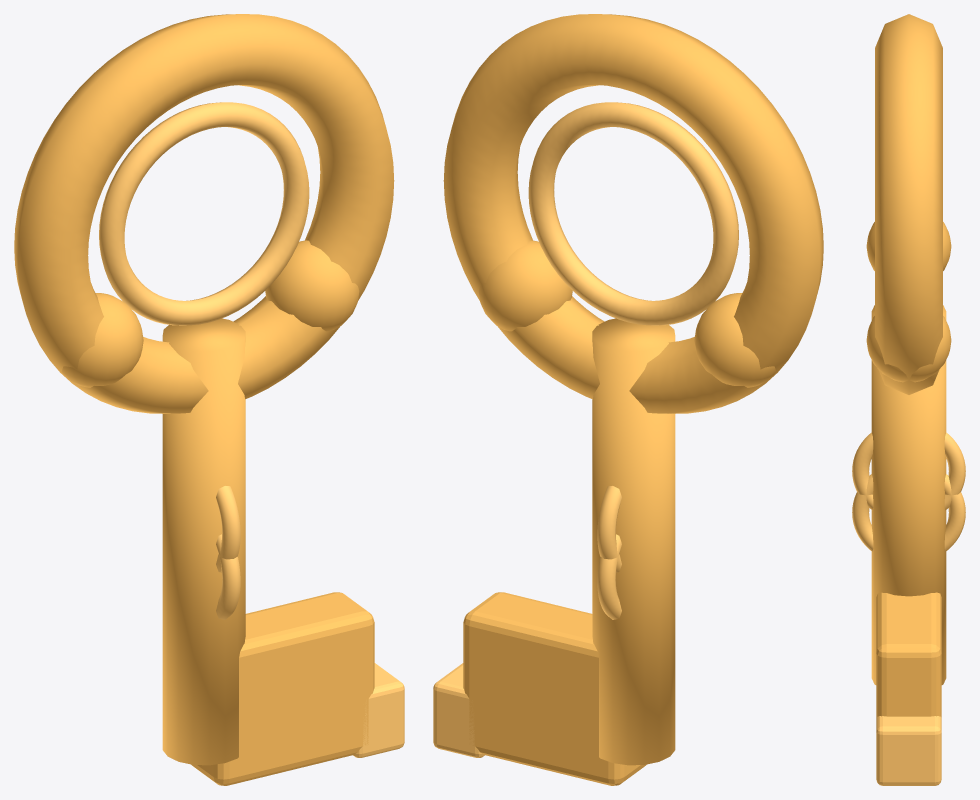
Rendered from key.gltf.
The picture shows the model from 3 angles, left to right: view 1: azimuth 30°, elevation 25°; view 2: azimuth 150°, elevation 25°; view 3: azimuth 270°, elevation 25°; orthographic projection. The views are drawn at different scales.
Visible parts, largest first — view 1: key; view 2: key; view 3: key.
Part boxes in pixels (left/top/right/bottom): key: left=14, top=14, right=404, bottom=785; key: left=433, top=14, right=823, bottom=785; key: left=852, top=14, right=965, bottom=785.
Bounding box in the file's own units: 0.584 × 1.14 × 0.174.
